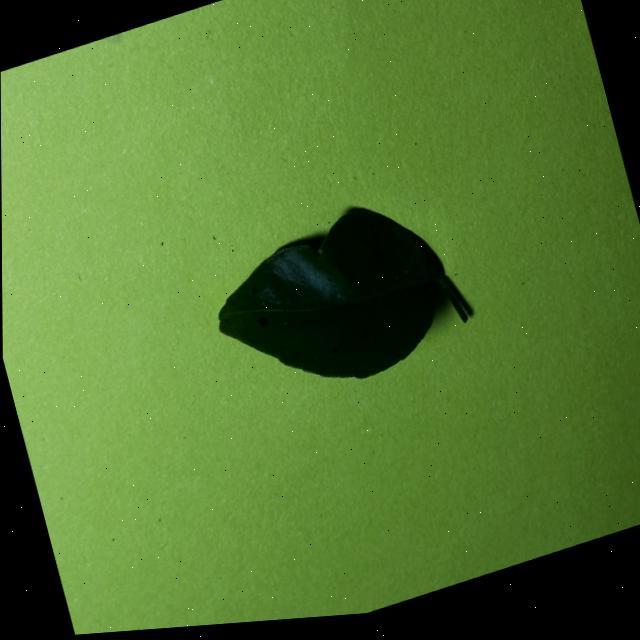sooty_mold: (219, 210, 465, 376)
